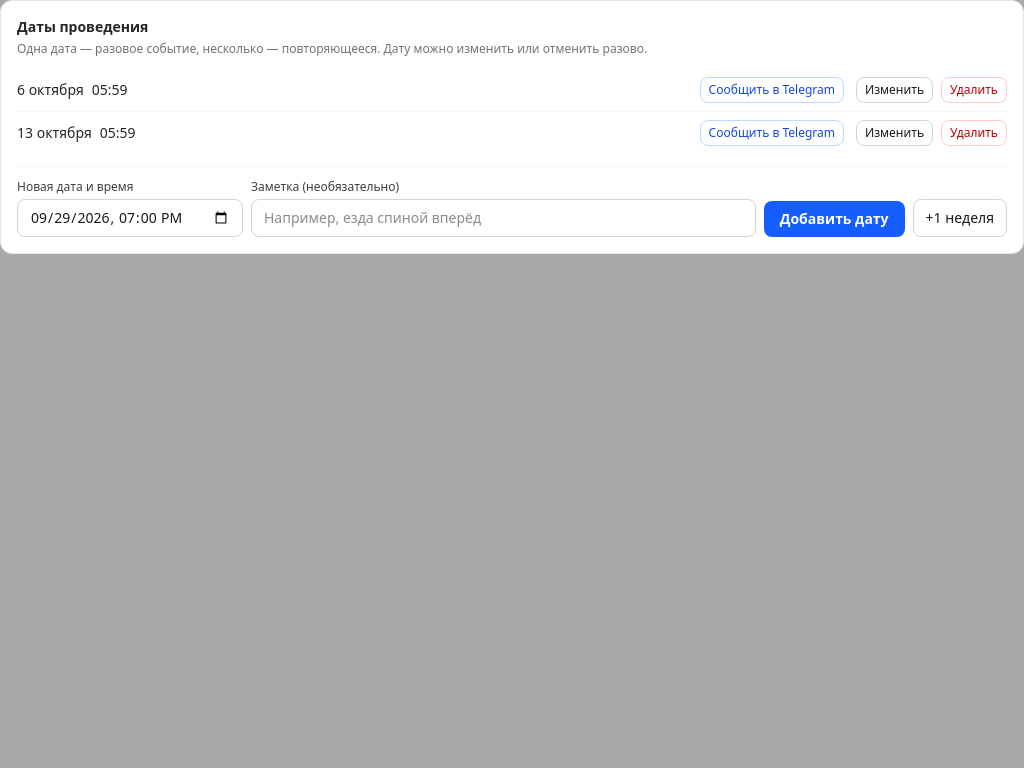
Test case: EventDatesManager › удаление даты › по клику на «Удалить» показывает подтверждение и НЕ удаляет сразу
The width and height of the screenshot is (1024, 768).
Click the button "Удалить" in the row of "6 октября" at (974, 90), box left=941, top=77, right=1007, bottom=103
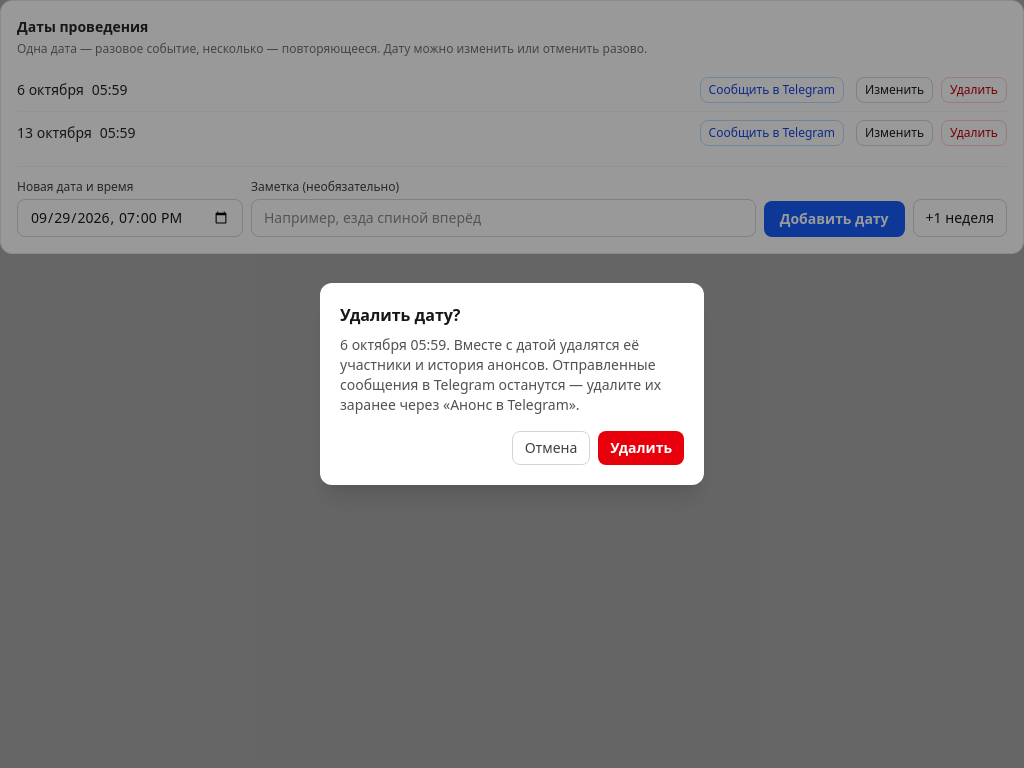
Expected: the heading "Удалить дату?" is shown, left=340, top=304, right=460, bottom=326
